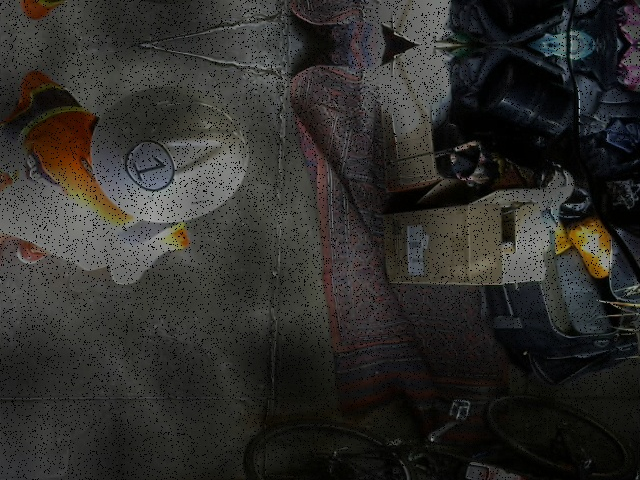one: (124, 141, 173, 193)
